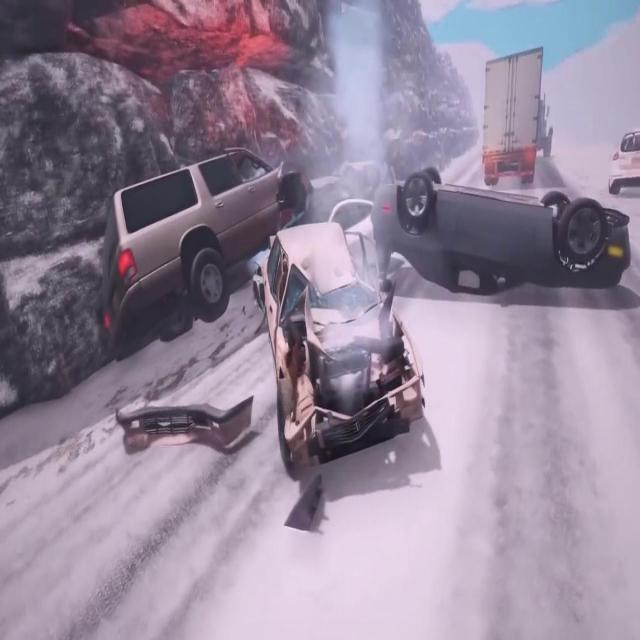severe: (94, 132, 403, 370), (249, 214, 430, 484), (369, 163, 635, 310)
